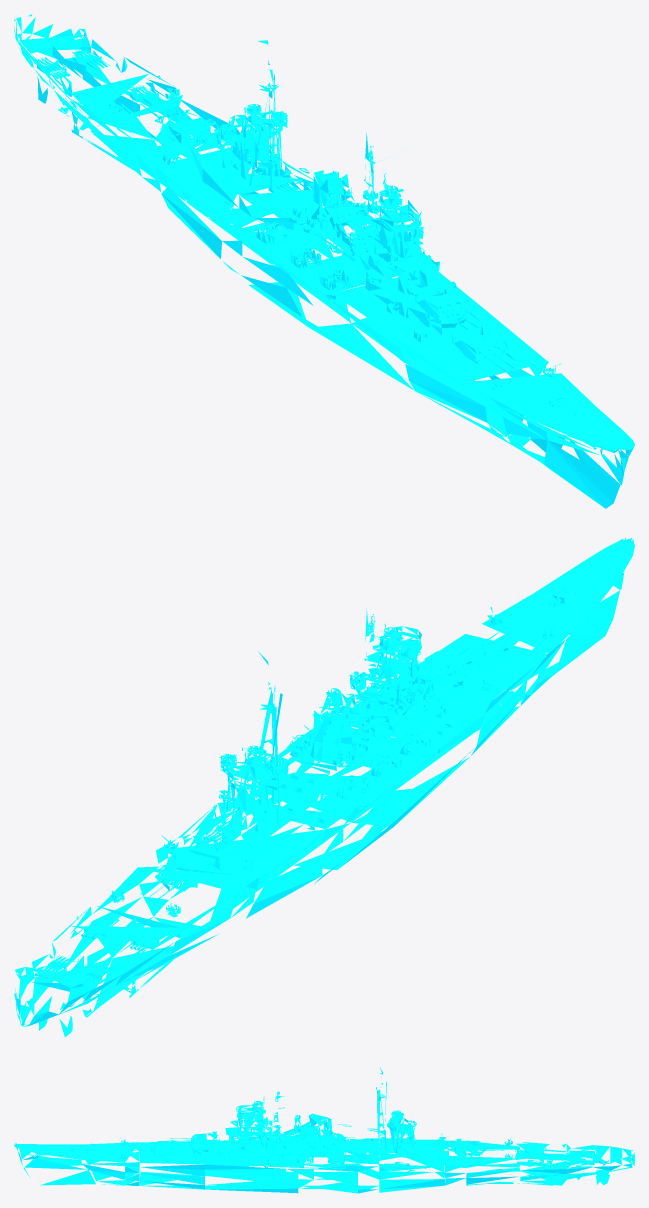
File: PJSC710.glb
3 renders of one model, top to bottom at view 1: azimuth 30°, elevation 25°; view 2: azimuth 150°, elevation 25°; view 3: azimuth 270°, elevation 25°, orthographic. The views are drawn at different scales.
Visible parts, largest first — view 1: hull_mid, hull_bow, hull_stern, main_battery, torpedo, aa_mount, superstructure; view 2: hull_mid, hull_stern, hull_bow, main_battery, aa_mount, superstructure, torpedo; view 3: hull_mid, hull_stern, hull_bow, main_battery, torpedo, aa_mount, superstructure.
Boxes of the visible parts, <box> form: hull_mid: <box>155,40,548,436</box>; hull_bow: <box>466,373,634,508</box>; hull_stern: <box>14,14,250,217</box>; main_battery: <box>140,98,523,370</box>; torpedo: <box>34,48,298,212</box>; aa_mount: <box>107,84,564,409</box>; superstructure: <box>219,104,423,252</box>; hull_mid: <box>156,608,547,920</box>; hull_stern: <box>14,866,258,1037</box>; hull_bow: <box>482,537,634,705</box>; main_battery: <box>140,627,523,898</box>; aa_mount: <box>110,589,564,917</box>; superstructure: <box>219,614,424,781</box>; torpedo: <box>34,818,297,986</box>; hull_mid: <box>139,1068,448,1193</box>; hull_stern: <box>444,1140,634,1185</box>; hull_bow: <box>14,1142,139,1185</box>; main_battery: <box>132,1131,504,1164</box>; torpedo: <box>384,1147,594,1169</box>; aa_mount: <box>83,1128,512,1163</box>; superstructure: <box>252,1091,404,1139</box>.
Size of the model in its own units: 1.71 by 3.05 by 14.81.
